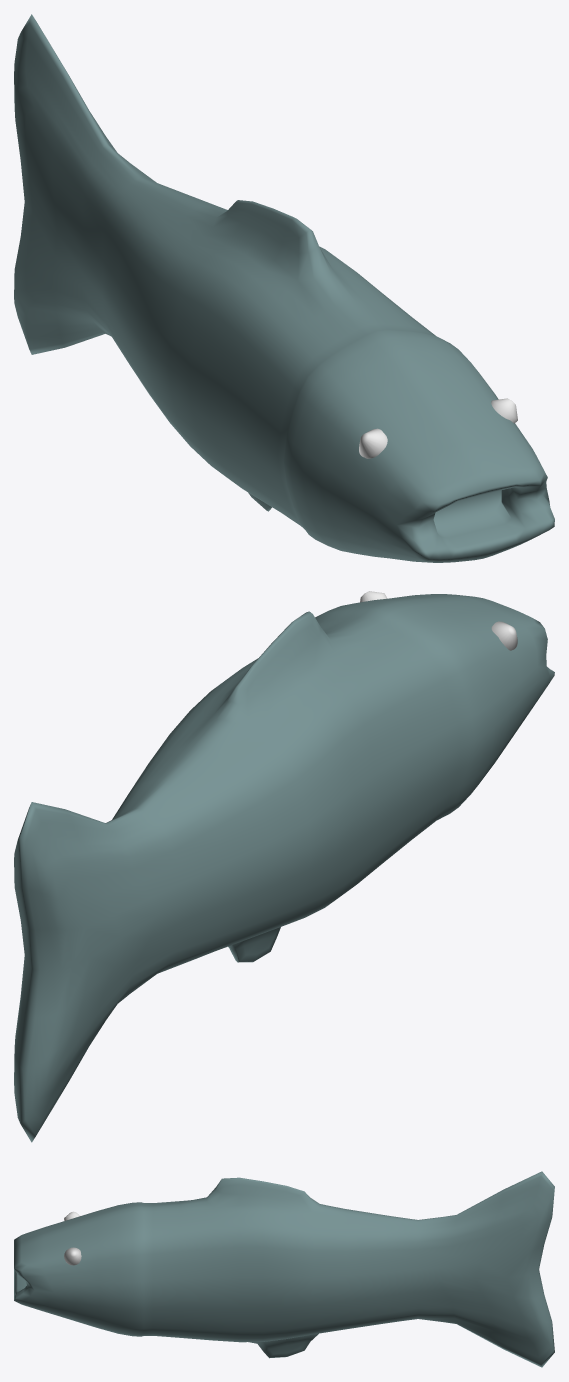
The model's file is Poisson.fbx.
3 views of the same model, one above another, from view 1: azimuth 30°, elevation 25°; view 2: azimuth 150°, elevation 25°; view 3: azimuth 270°, elevation 25° (orthographic). The views are drawn at different scales.
Visible parts, largest first — view 1: pCube1, polySurface2; view 2: pCube1; view 3: pCube1, polySurface1.
Boxes of the visible parts, bbox=[...] form: pCube1: bbox=[14, 14, 554, 562]; polySurface2: bbox=[359, 428, 387, 458]; pCube1: bbox=[14, 594, 554, 1142]; pCube1: bbox=[14, 1171, 554, 1367]; polySurface1: bbox=[64, 1247, 81, 1265].
Bounding box in the file's own units: 23.03 × 38.87 × 96.97.
